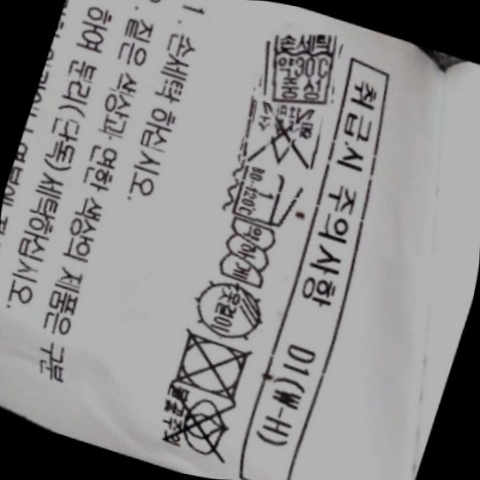DN_tumble_dry: (162, 324, 259, 406)
hand_wash: (255, 24, 348, 111)
iron_low: (225, 159, 304, 233)
line_dry_in_shade: (184, 274, 275, 347)
wring: (212, 214, 281, 292)
